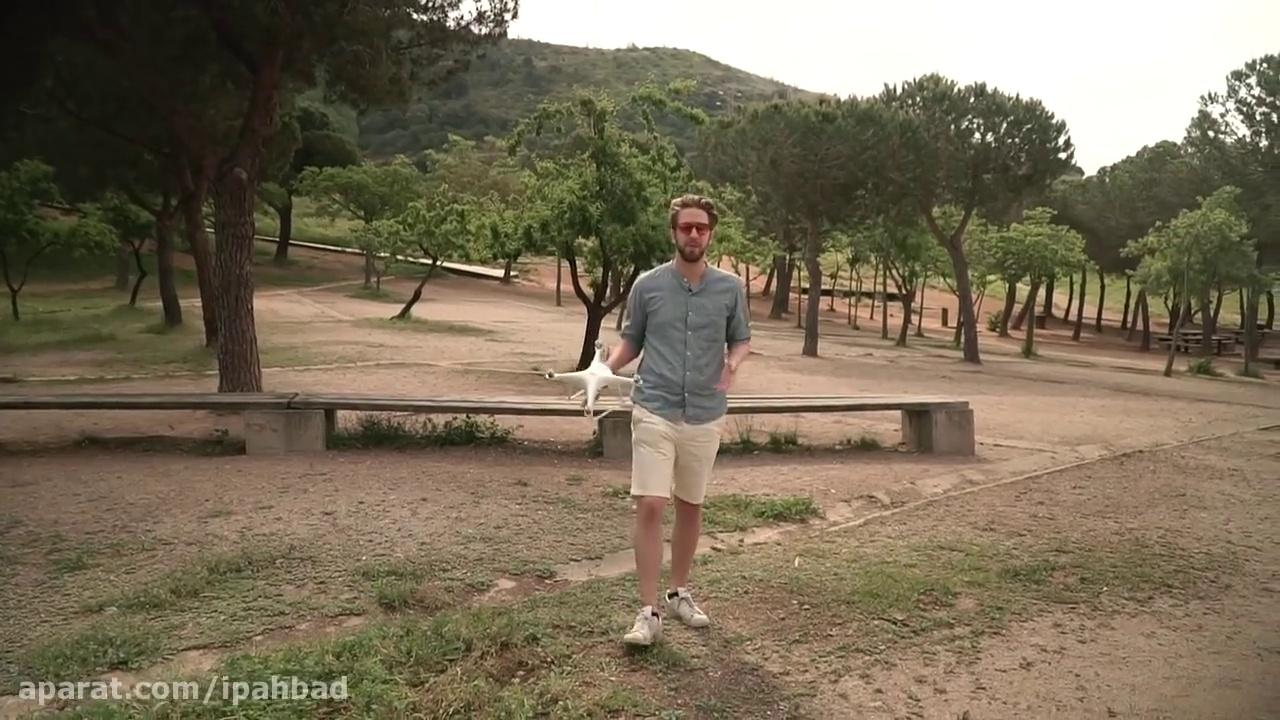drone: (542, 339, 644, 417)
